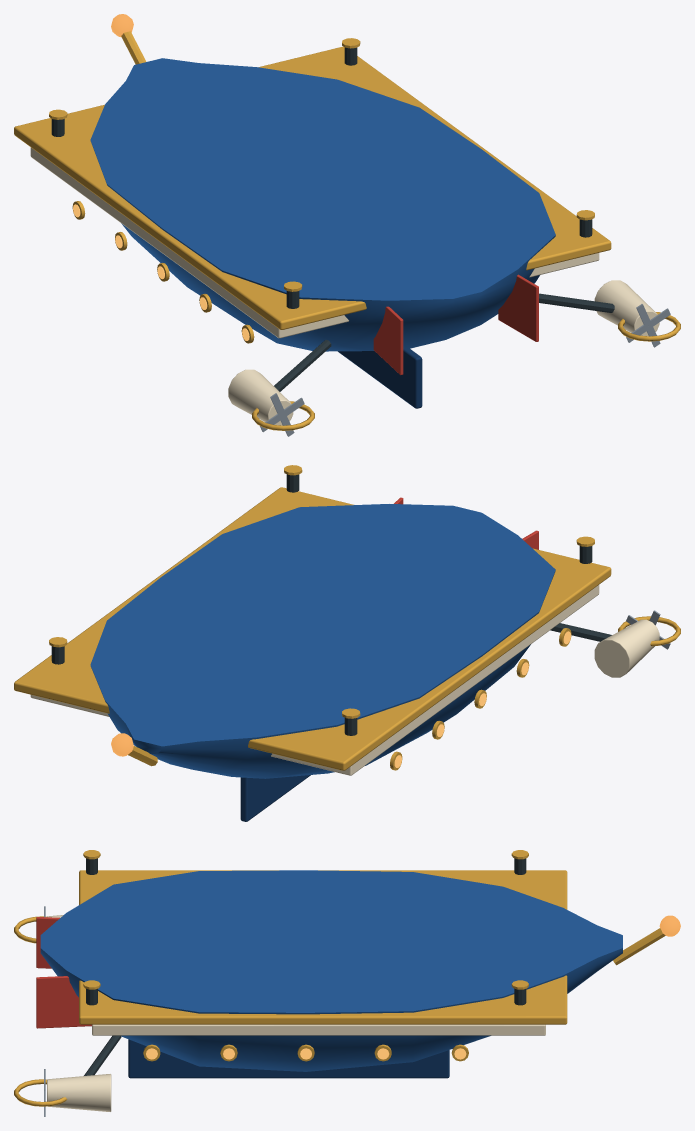
Rendered from rt_barge_hull.glb.
3 renders of one model, top to bottom at view 1: azimuth 30°, elevation 25°; view 2: azimuth 150°, elevation 25°; view 3: azimuth 270°, elevation 25°, orthographic. The views are drawn at different scales.
Parts seen in each view (by area): view 1: rt_barge_hull_body; view 2: rt_barge_hull_body; view 3: rt_barge_hull_body.
Part boxes in pixels (x1,y1,x2,y2): rt_barge_hull_body: (14,14,680,436); rt_barge_hull_body: (14,465,680,821); rt_barge_hull_body: (14,850,680,1116).
Bounding box in the file's own units: 10.36 × 4.15 × 15.57.
